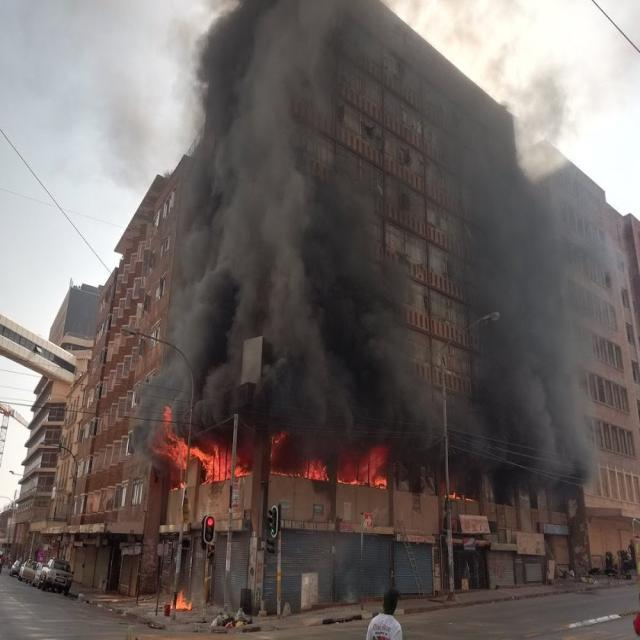Fire: (154, 406, 251, 486), (272, 433, 392, 490), (171, 588, 195, 612), (444, 492, 474, 504)
Smoke: (132, 1, 446, 448), (462, 65, 598, 481)
